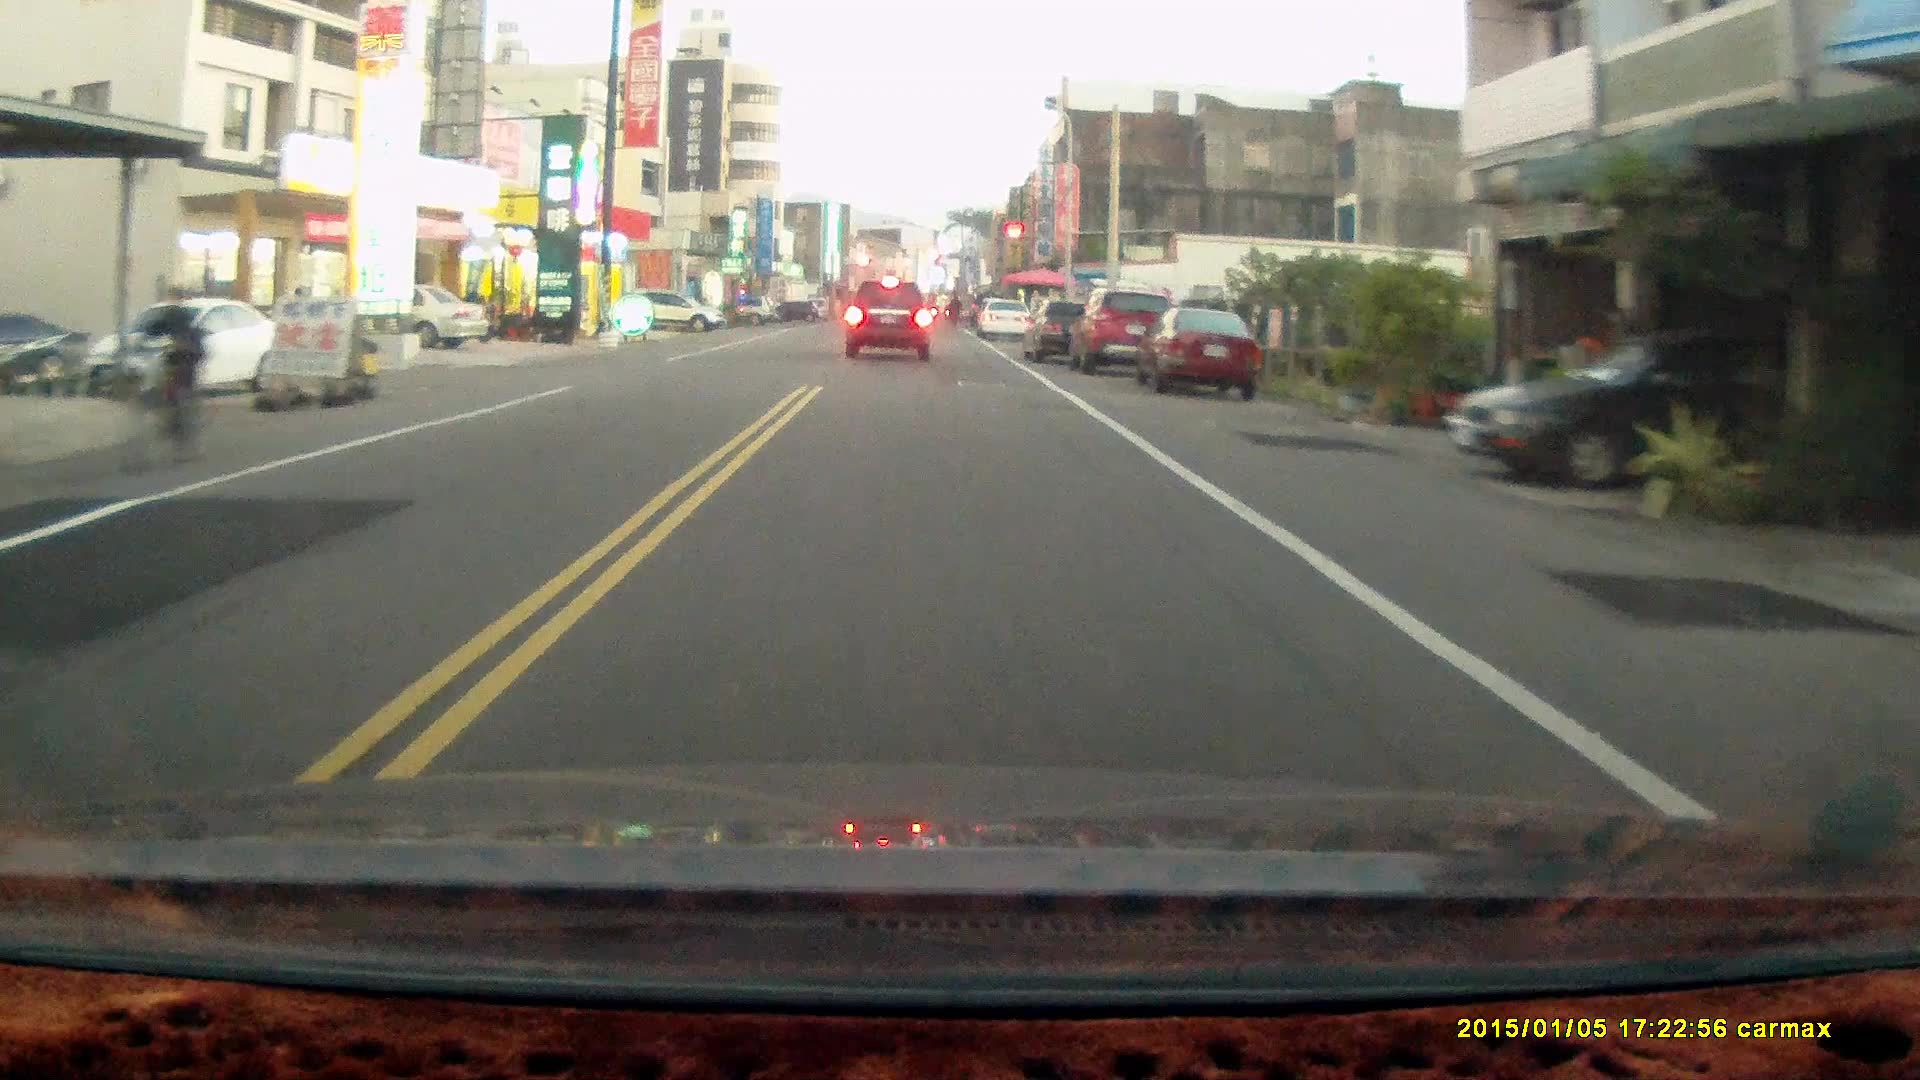rider: (110, 281, 208, 485)
vehicle: (1446, 319, 1880, 485), (84, 294, 290, 399), (1131, 302, 1270, 398), (313, 282, 490, 355), (1073, 287, 1181, 374), (844, 278, 933, 362), (1024, 295, 1118, 359), (632, 290, 726, 333)
